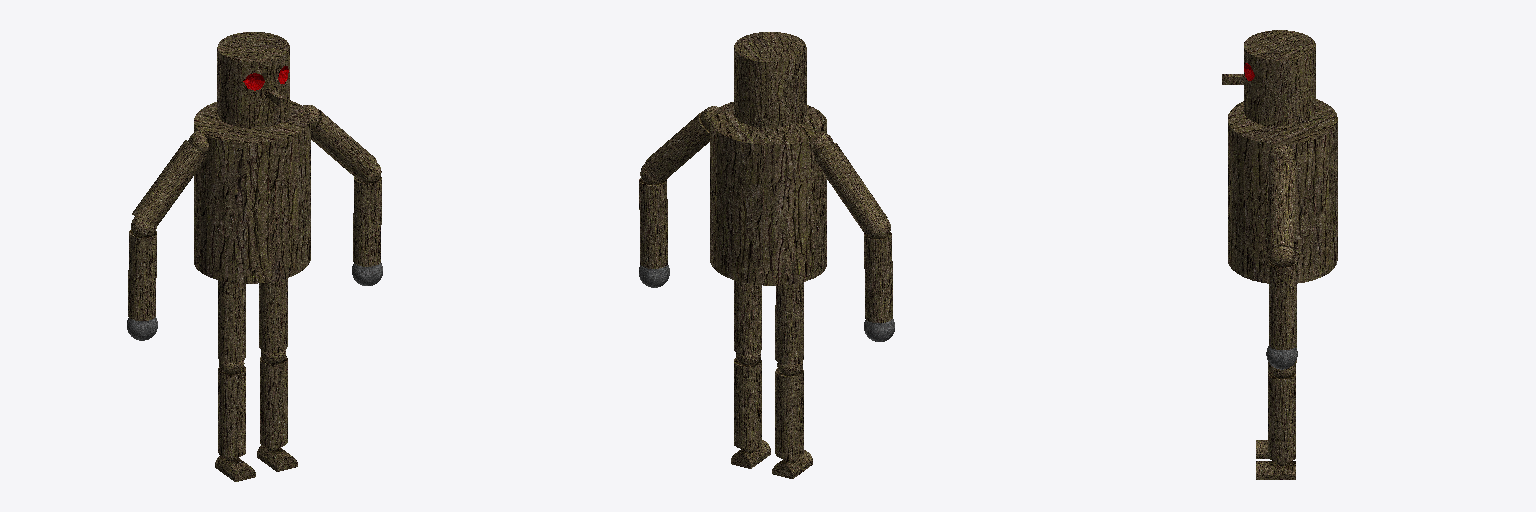
3 renders of one model, left to right at view 1: azimuth 30°, elevation 25°; view 2: azimuth 150°, elevation 25°; view 3: azimuth 270°, elevation 25°, orthographic.
Parts seen in each view (by area): view 1: Cylinder_Cylinder.006, Cylinder.001_Cylinder.007, Limb1.005_Cylinder.013, Limb1.007_Cylinder.015, Limb1.006_Cylinder.014, Limb1_Cylinder.008, Limb1.003_Cylinder.011, Limb1.002_Cylinder.010, Limb1.004_Cylinder.012, Limb1.001_Cylinder.009, Cube_Cube.000, Cube.001_Cube.002 (+2 smaller); view 2: Cylinder_Cylinder.006, Cylinder.001_Cylinder.007, Limb1.005_Cylinder.013, Limb1.003_Cylinder.011, Limb1.007_Cylinder.015, Limb1.006_Cylinder.014, Limb1_Cylinder.008, Limb1.002_Cylinder.010, Limb1.004_Cylinder.012, Limb1.001_Cylinder.009, Cube.001_Cube.002, Cube_Cube.000 (+2 smaller); view 3: Cylinder_Cylinder.006, Cylinder.001_Cylinder.007, Limb1.004_Cylinder.012, Limb1_Cylinder.008, Limb1.006_Cylinder.014, Cube_Cube.000, Sphere.010_Sphere.018.
Boxes of the visible parts, x1,y1,x2,y2 form: Cylinder_Cylinder.006: [194, 100, 310, 283]; Cylinder.001_Cylinder.007: [217, 32, 289, 127]; Limb1.005_Cylinder.013: [132, 140, 206, 226]; Limb1.007_Cylinder.015: [128, 230, 156, 320]; Limb1.006_Cylinder.014: [353, 177, 381, 266]; Limb1_Cylinder.008: [260, 356, 287, 447]; Limb1.003_Cylinder.011: [218, 366, 245, 457]; Limb1.002_Cylinder.010: [218, 280, 245, 362]; Limb1.004_Cylinder.012: [311, 109, 376, 179]; Limb1.001_Cylinder.009: [259, 278, 287, 352]; Cube_Cube.000: [257, 445, 297, 471]; Cube.001_Cube.002: [215, 455, 255, 481]; Cylinder_Cylinder.006: [710, 102, 826, 285]; Cylinder.001_Cylinder.007: [734, 32, 806, 127]; Limb1.005_Cylinder.013: [814, 143, 887, 232]; Limb1.003_Cylinder.011: [775, 368, 803, 459]; Limb1.007_Cylinder.015: [864, 232, 892, 322]; Limb1.006_Cylinder.014: [639, 178, 667, 268]; Limb1_Cylinder.008: [734, 358, 761, 448]; Limb1.002_Cylinder.010: [775, 282, 803, 364]; Limb1.004_Cylinder.012: [645, 111, 709, 181]; Limb1.001_Cylinder.009: [734, 280, 761, 354]; Cube.001_Cube.002: [772, 450, 812, 478]; Cube_Cube.000: [731, 440, 770, 468]; Cylinder_Cylinder.006: [1228, 99, 1337, 283]; Cylinder.001_Cylinder.007: [1222, 30, 1315, 125]; Limb1.004_Cylinder.012: [1268, 159, 1296, 251]; Limb1_Cylinder.008: [1268, 371, 1295, 462]; Limb1.006_Cylinder.014: [1269, 259, 1296, 349]; Cube_Cube.000: [1256, 461, 1295, 479]; Sphere.010_Sphere.018: [1266, 346, 1297, 369].
Bounding box in the file's own units: 2.05 × 3.24 × 0.813.
10 materials, 6 textured.